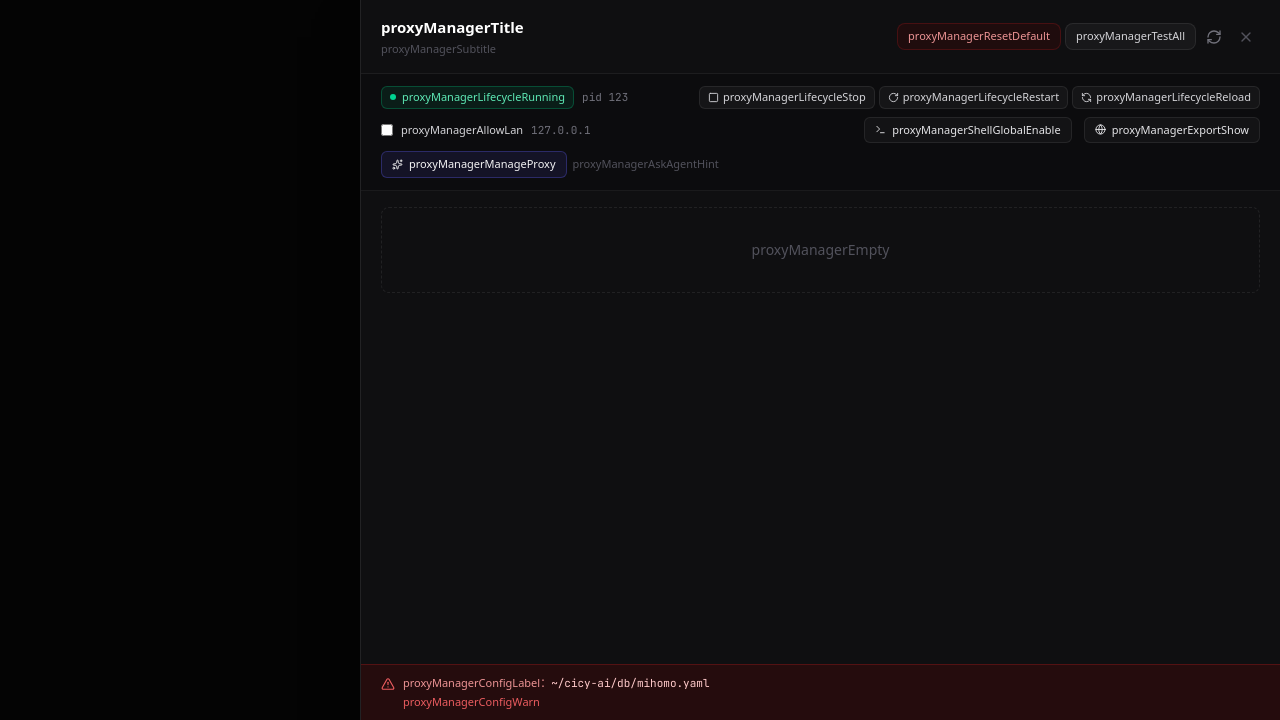
Test: <ProxyManagerDialog /> global Bash proxy › sets and cancels the managed bashrc proxy with immediate feedback
Click the button "proxyManagerShellGlobalEnable": (968, 130) [864,116,1072,143]
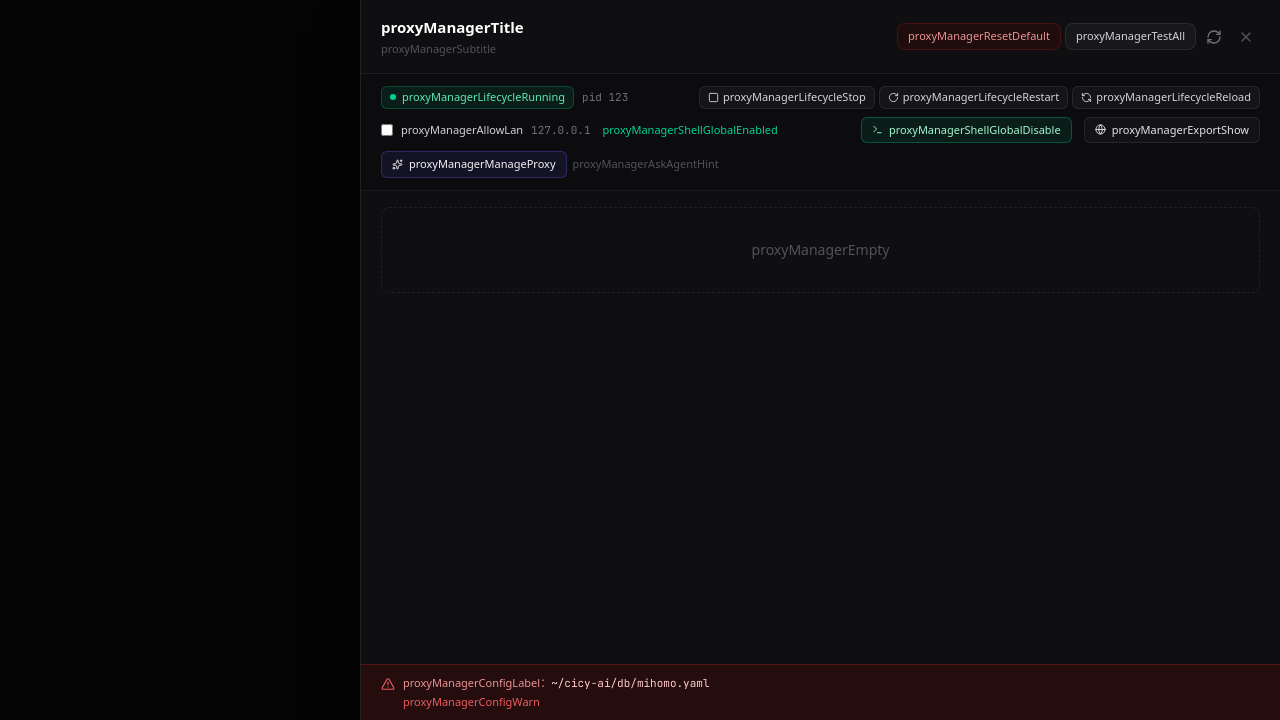
Result: the button "proxyManagerShellGlobalDisable" is shown
Result: the text "proxyManagerShellGlobalEnabled" is shown at [602,122,778,138]
Click the button "proxyManagerShellGlobalDisable": (966, 130) [861,116,1072,143]
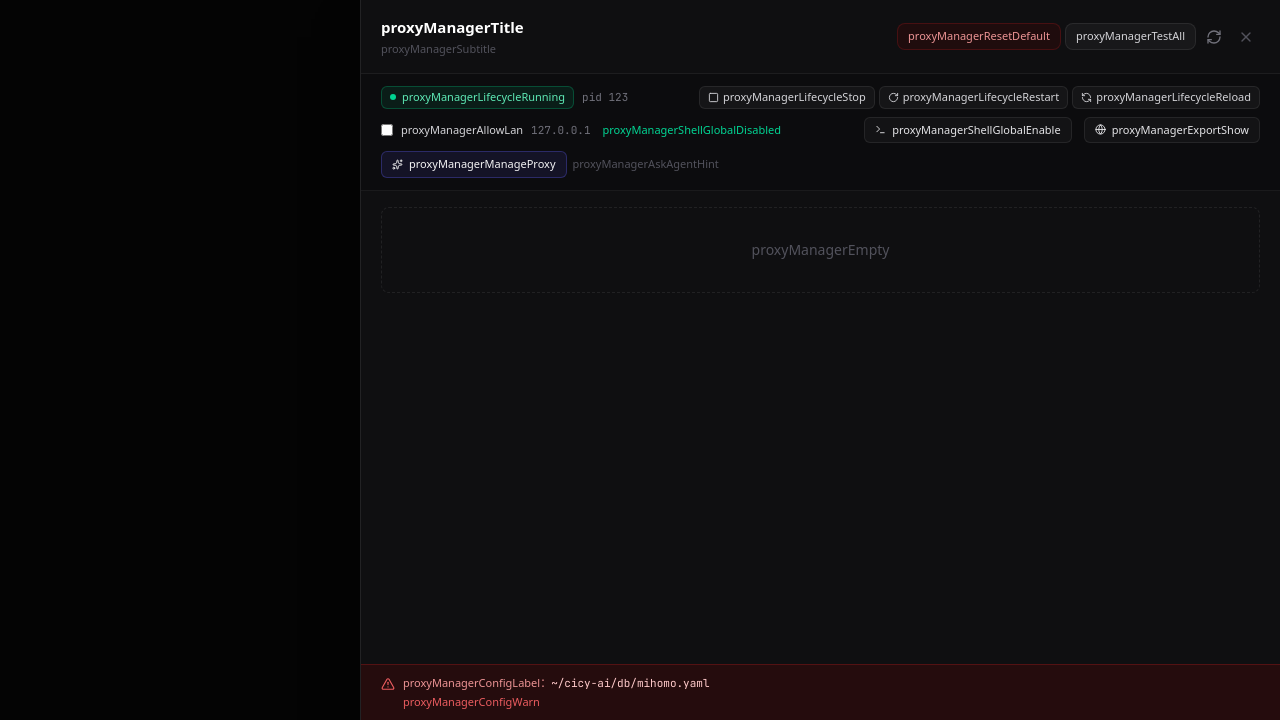
Result: the button "proxyManagerShellGlobalEnable" is shown at [864,116,1072,143]
Result: the text "proxyManagerShellGlobalDisabled" is shown at [602,122,781,138]
